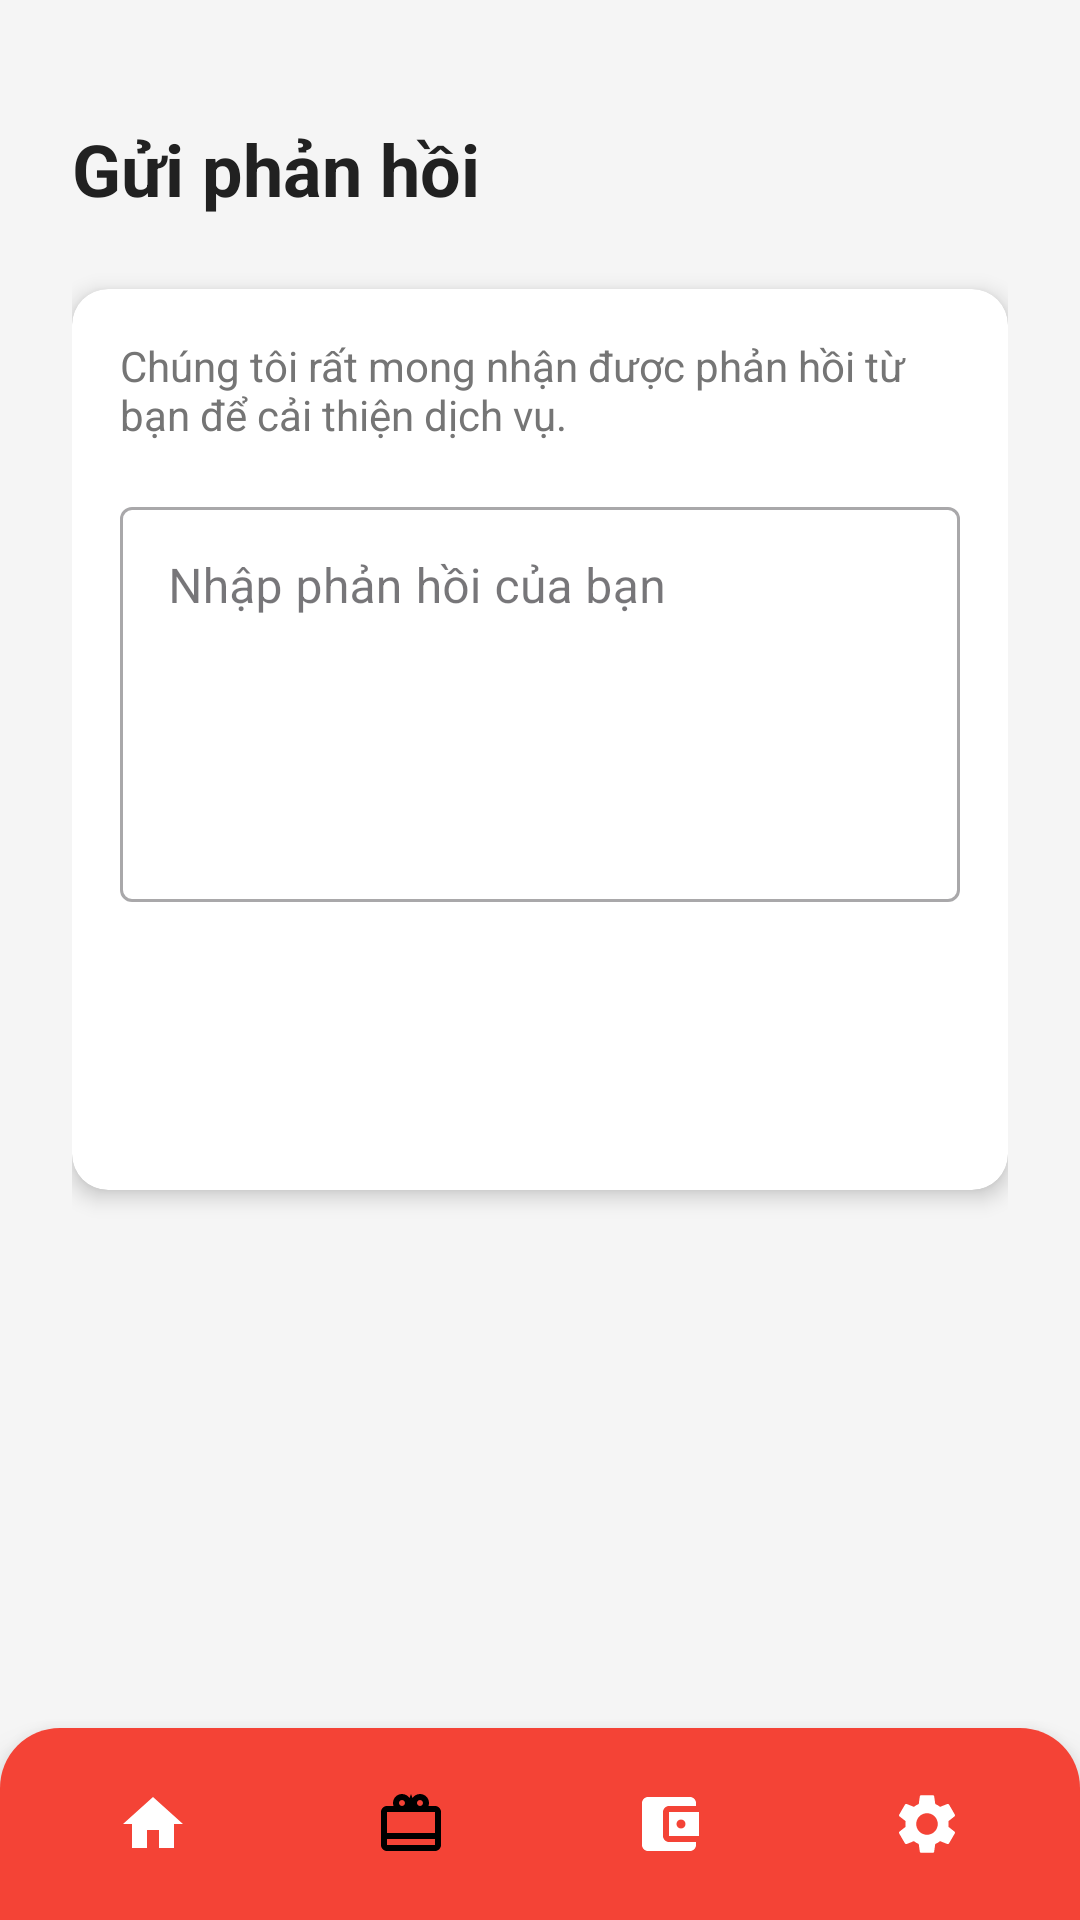

Point at icon controls on the screen. Image size 1080w x 1920h, points as (x=x, y=y).
Home: (x=153, y=1822)
Settings: (x=927, y=1824)
Wallet: (x=670, y=1824)
